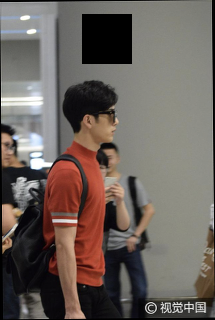without_mask: (90, 107, 121, 146), (2, 139, 15, 170), (99, 154, 119, 174)
